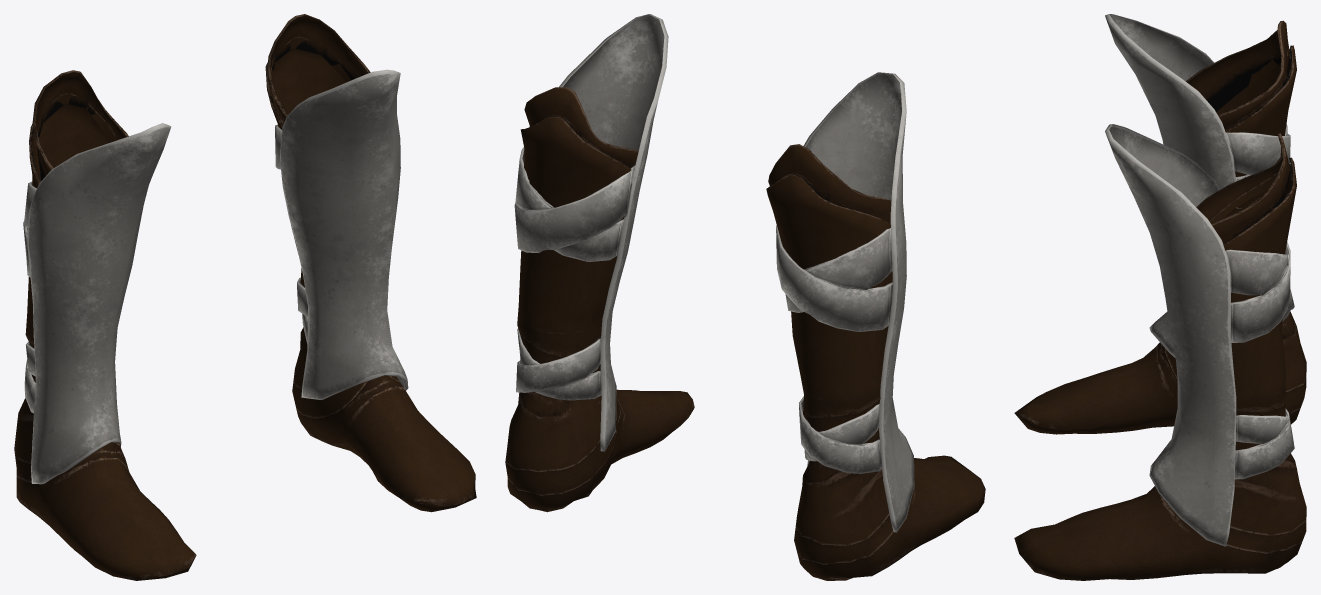
Rendered from rivendell_boots_greaves1_silver.fbx.
3 renders of one model, left to right at view 1: azimuth 30°, elevation 25°; view 2: azimuth 150°, elevation 25°; view 3: azimuth 270°, elevation 25°, orthographic. The views are drawn at different scales.
Parts seen in each view (by area): view 1: rivendell_boots_greaves1_silver.1, rivendell_boots_greaves1_silver.0; view 2: rivendell_boots_greaves1_silver.0, rivendell_boots_greaves1_silver.1; view 3: rivendell_boots_greaves1_silver.0, rivendell_boots_greaves1_silver.1.
Boxes of the visible parts, x1=… form: rivendell_boots_greaves1_silver.1: x1=23, y1=69, x2=408, y2=484; rivendell_boots_greaves1_silver.0: x1=14, y1=14, x2=476, y2=580; rivendell_boots_greaves1_silver.0: x1=505, y1=87, x2=985, y2=580; rivendell_boots_greaves1_silver.1: x1=514, y1=14, x2=914, y2=532; rivendell_boots_greaves1_silver.0: x1=1014, y1=20, x2=1306, y2=580; rivendell_boots_greaves1_silver.1: x1=1105, y1=14, x2=1294, y2=546.
Size of the model in its own units: 0.4477 by 0.2994 by 0.4771.
Materials: 2 (2 with a texture image).
